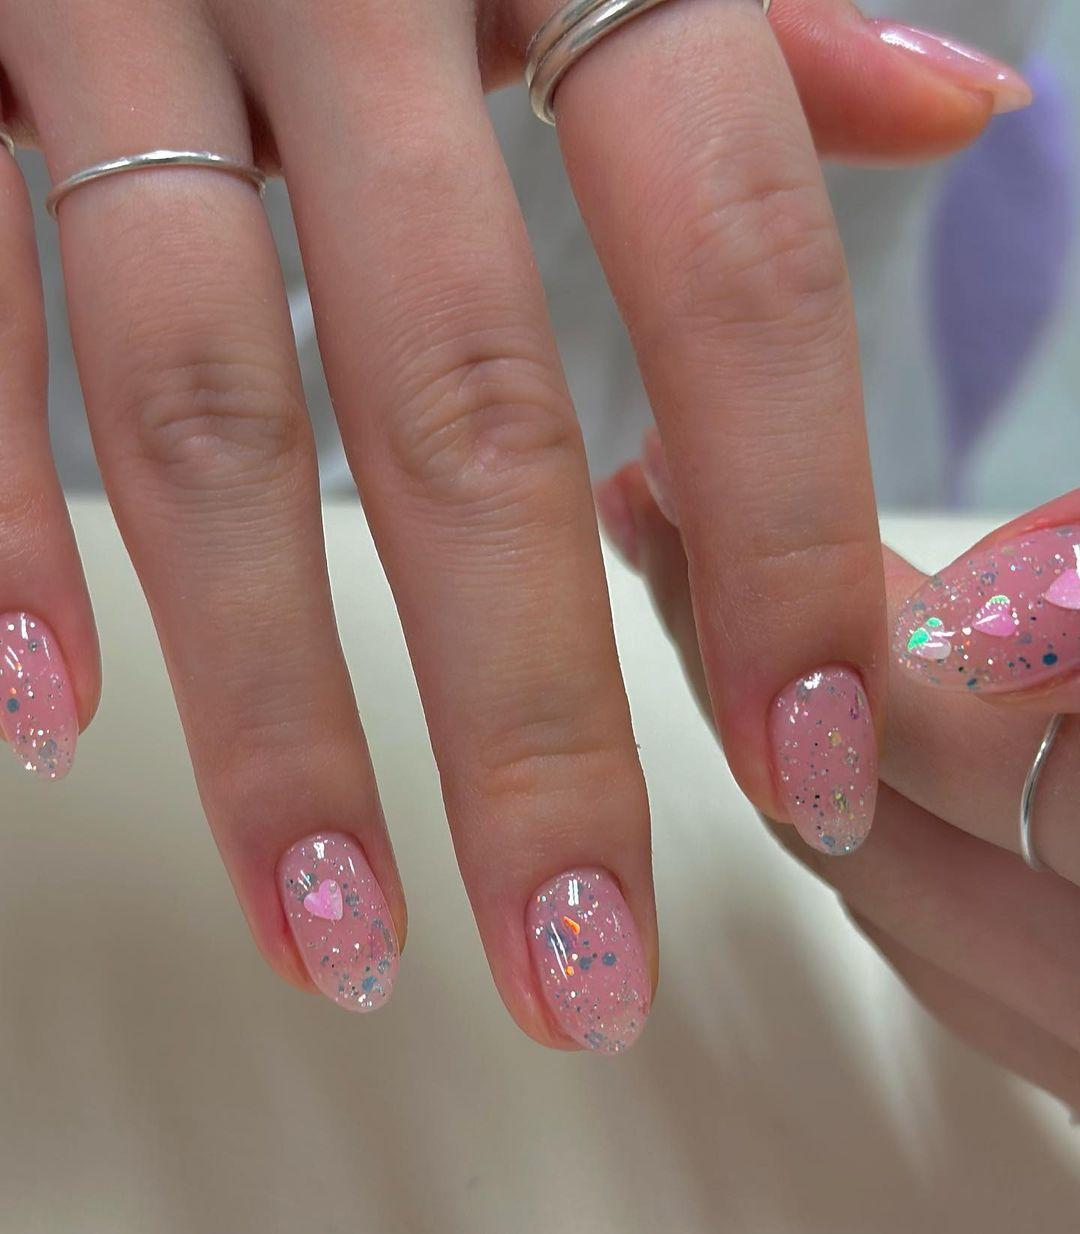nail: (891, 485, 1078, 712), (523, 861, 653, 1054), (273, 828, 401, 1013), (764, 660, 878, 857), (864, 17, 1034, 115), (0, 608, 80, 780)
